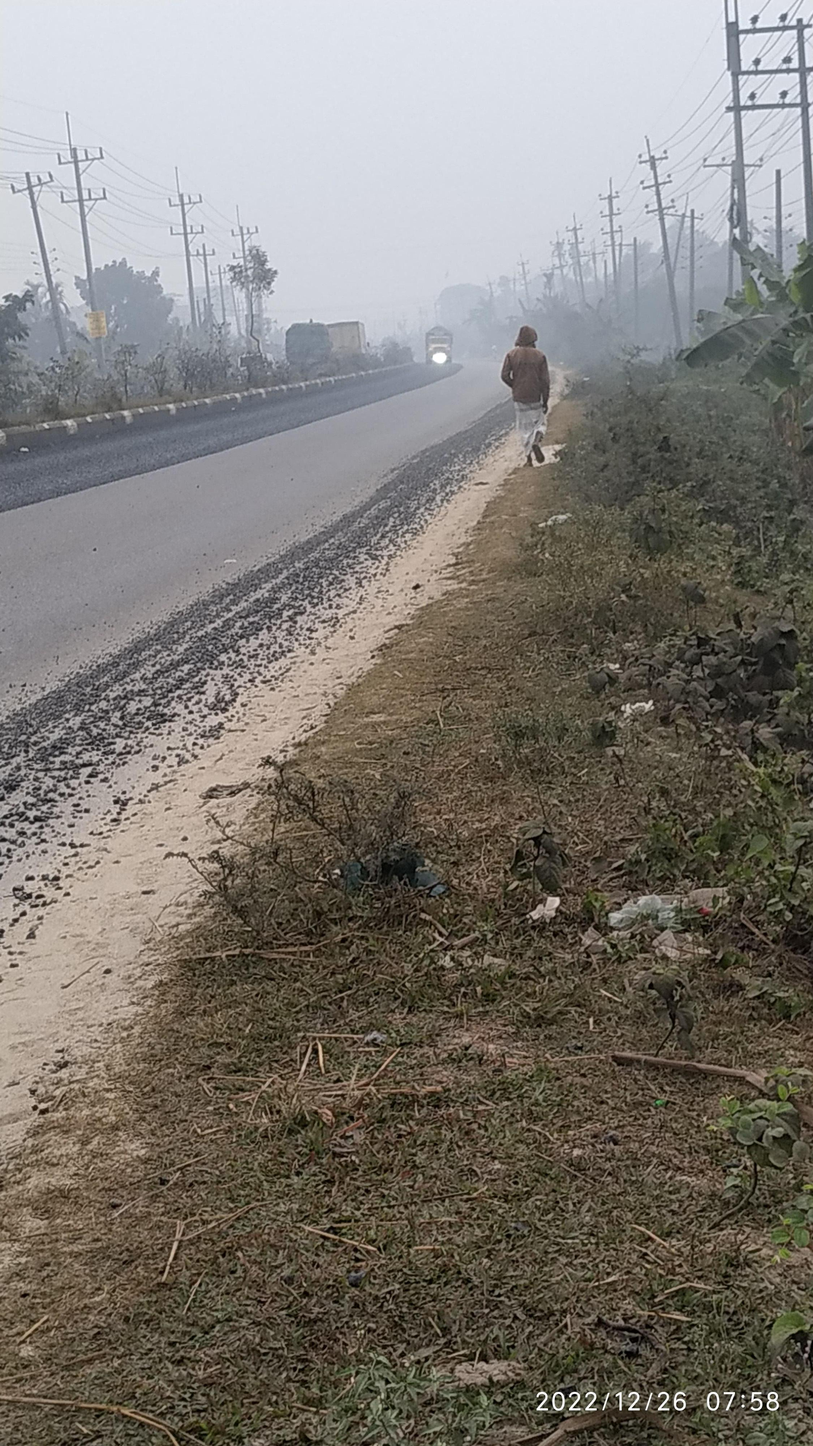Truck: (280, 305, 382, 380), (414, 315, 465, 384)
